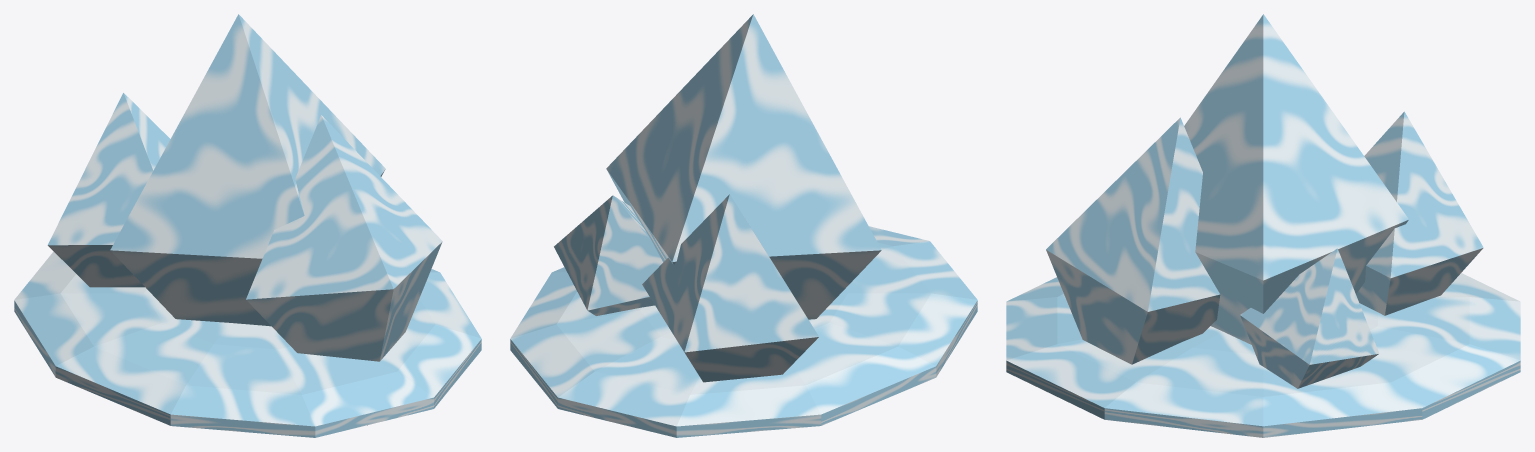
Rendered from Iceberg.glb.
The picture shows the model from 3 angles, left to right: view 1: azimuth 30°, elevation 25°; view 2: azimuth 150°, elevation 25°; view 3: azimuth 270°, elevation 25°; orthographic projection.
Visible parts, largest first — view 1: Iceberg; view 2: Iceberg; view 3: Iceberg.
Boxes of the visible parts, x1,y1,x2,y2 form: Iceberg: (14, 14, 481, 437); Iceberg: (510, 14, 977, 437); Iceberg: (1006, 14, 1520, 437).
Size of the model in its own units: 3.9 by 3.84 by 4.45.
1 material, 1 textured.
